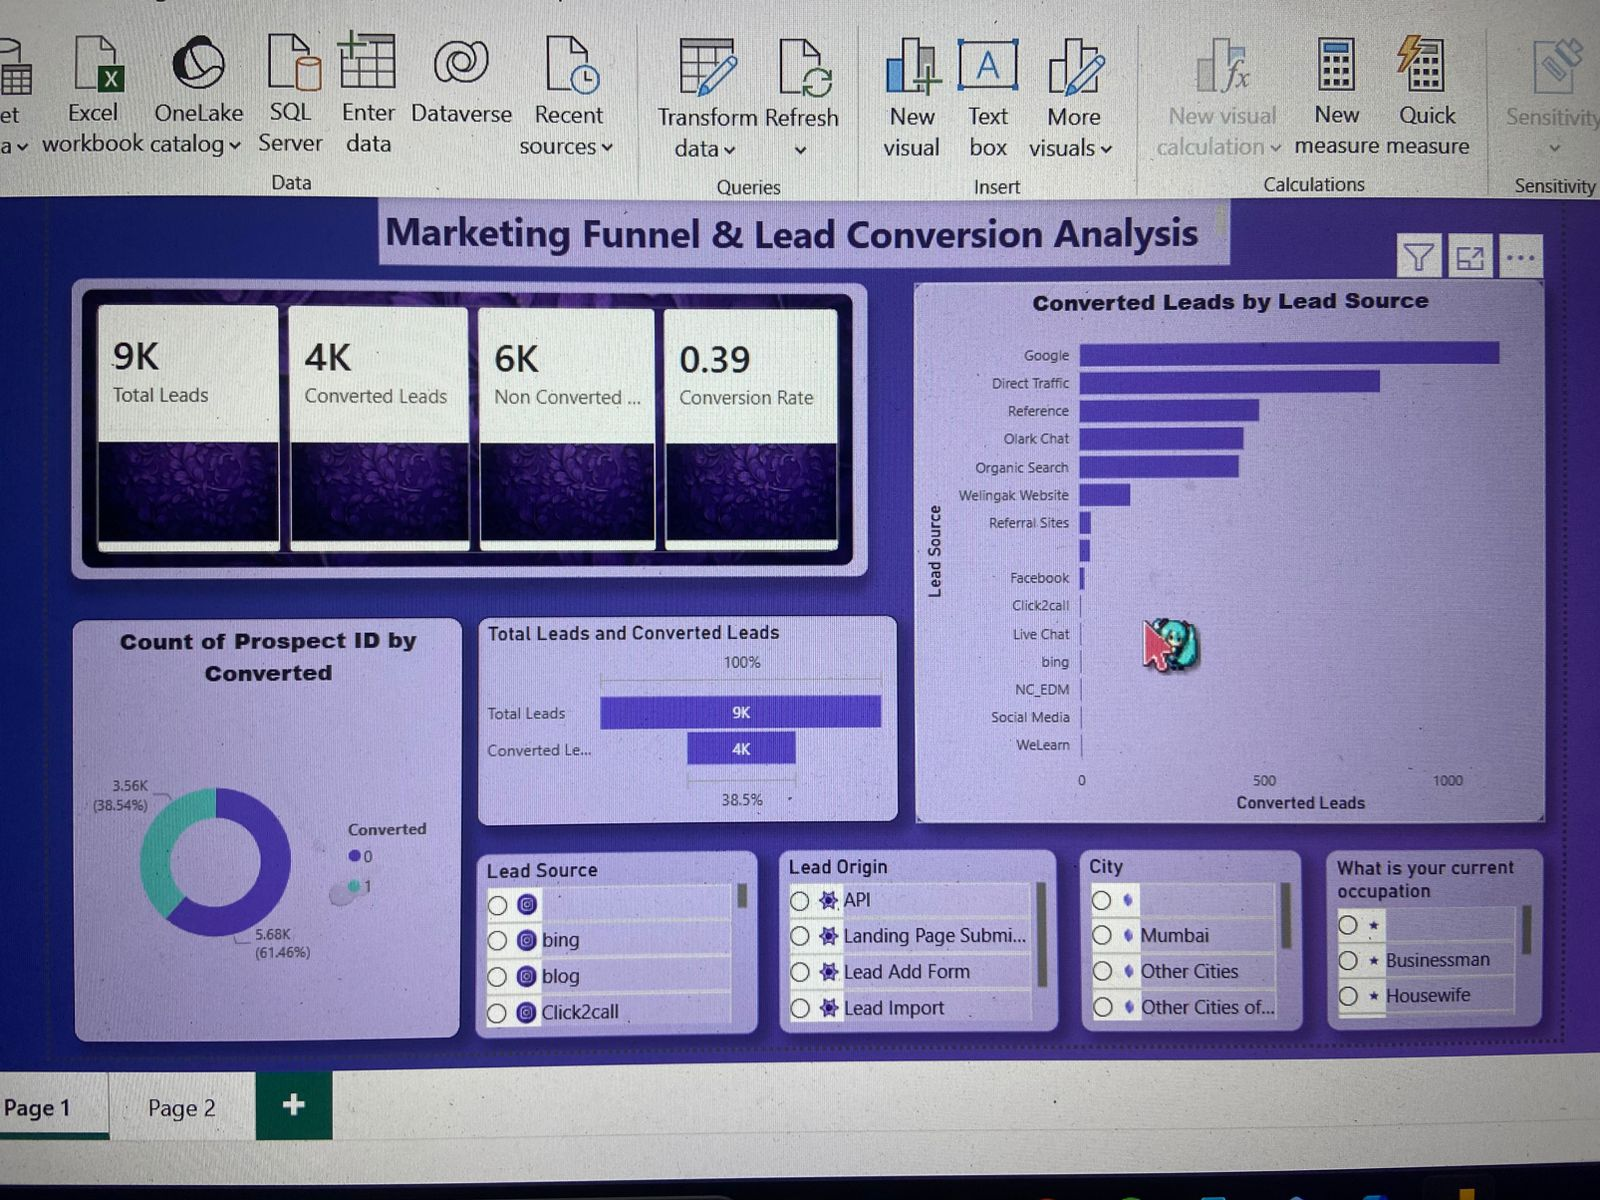

This screenshot's page, from the dashboard's own definition file:
{"tool":"powerbi","page":{"name":"Page 1","canvas":[1280,720],"ordinal":0},"visuals":[{"type":"cardVisual","fields":{"Data":["Lead Scoring.Total Leads","Lead Scoring.Converted Leads","Lead Scoring.Non Converted Leads","Lead Scoring.Conversion Rate"]},"box":[18.9,69.9,667.1,251.3],"z":0},{"type":"funnel","fields":{"Y":["Lead Scoring.Total Leads","Lead Scoring.Converted Leads"]},"box":[353.4,355.3,359.1,177.6],"z":1000},{"type":"barChart","fields":{"Y":["Lead Scoring.Converted Leads"],"Category":["Lead Scoring.Lead Source"]},"box":[727.6,69.9,536.7,463],"z":2000},{"type":"donutChart","fields":{"Category":["Lead Scoring.Converted"],"Y":["CountNonNull(Lead Scoring.Prospect ID)"]},"box":[18.9,355.3,321.3,353.4],"z":3000},{"type":"listSlicer","fields":{"Values":["Lead Scoring.Lead Source"]},"box":[353.4,555.6,238.1,153.1],"z":4000},{"type":"listSlicer","fields":{"Values":["Lead Scoring.Lead Origin"]},"box":[608.5,555.6,238.1,153.1],"z":5000},{"type":"listSlicer","fields":{"Values":["Lead Scoring.City"]},"box":[865.5,555.6,189,153.1],"z":6000},{"type":"listSlicer","fields":{"Values":["Lead Scoring.What is your current occupation"]},"box":[1075.3,555.6,189,153.1],"z":7000},{"type":"textbox","box":[274,0,721.9,56.7],"z":8000}]}

Visuals, with their boxes on the page's 1280x720 design canvas (x1, y1, x2, y2). These are canvas units, not pixel positions in the 1600x1200 screenshot, which may show the page scaled, cropped or inside an application window:
cardVisual - Lead Scoring.Total Leads x Lead Scoring.Converted Leads: 19, 70, 686, 321
funnel - Lead Scoring.Total Leads x Lead Scoring.Converted Leads: 353, 355, 712, 533
barChart - Lead Scoring.Converted Leads x Lead Scoring.Lead Source: 728, 70, 1264, 533
donutChart - Lead Scoring.Converted x CountNonNull(Lead Scoring.Prospect ID): 19, 355, 340, 709
listSlicer - Lead Scoring.Lead Source: 353, 556, 592, 709
listSlicer - Lead Scoring.Lead Origin: 608, 556, 847, 709
listSlicer - Lead Scoring.City: 866, 556, 1054, 709
listSlicer - Lead Scoring.What is your current occupation: 1075, 556, 1264, 709
textbox: 274, 0, 996, 57
